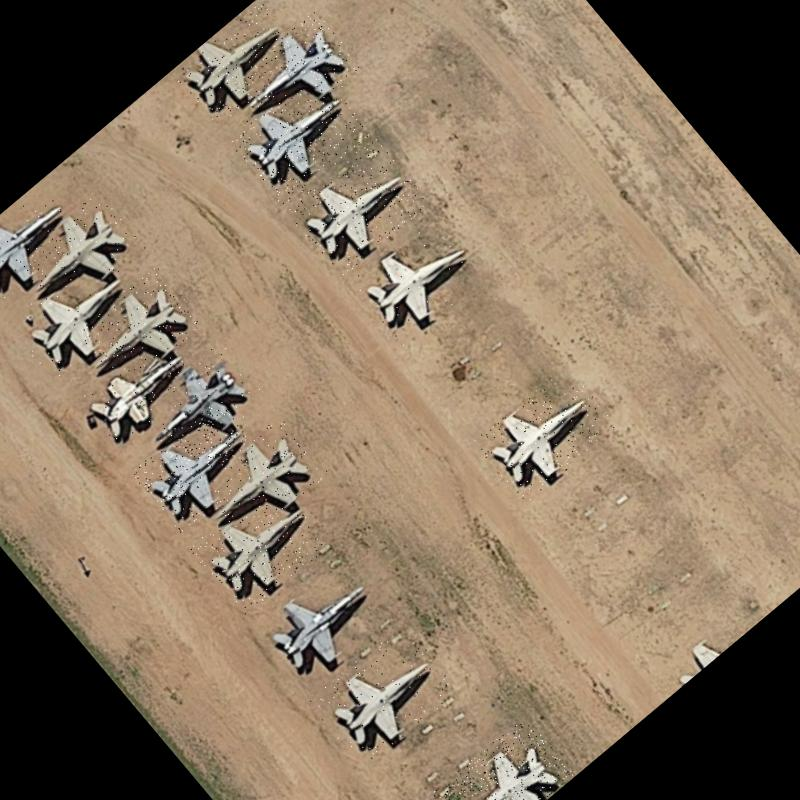A16: (306, 620, 460, 770), (224, 61, 373, 207), (250, 552, 396, 694), (284, 136, 430, 278), (345, 206, 491, 348), (472, 362, 618, 504), (184, 412, 329, 552), (188, 477, 330, 616), (6, 251, 146, 389), (130, 399, 268, 532), (227, 9, 364, 142), (11, 189, 146, 319), (72, 264, 206, 394), (133, 340, 267, 470), (172, 1, 306, 130), (73, 330, 202, 451), (428, 714, 574, 800), (0, 182, 85, 306)
